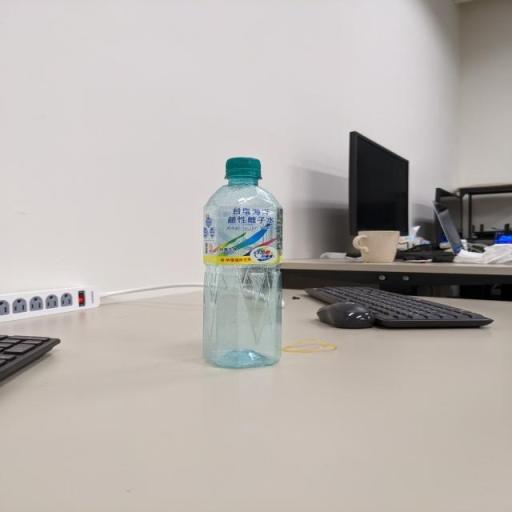plastic: (198, 154, 287, 372)
